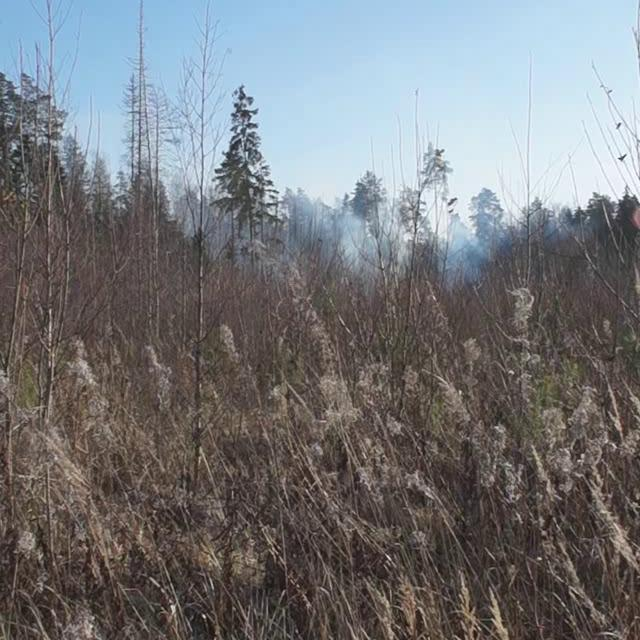Smoke: (156, 168, 518, 300)
